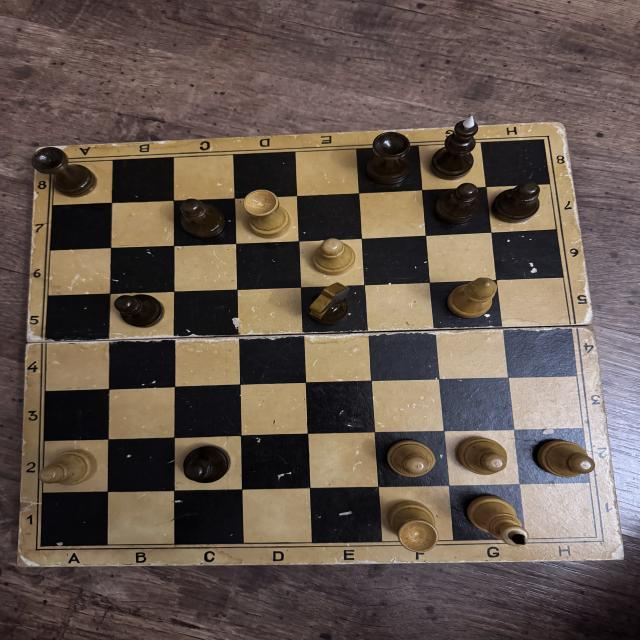black-king: (430, 114, 480, 181)
black-knight: (309, 282, 351, 325)
black-pawn: (492, 181, 541, 223), (179, 198, 228, 239), (181, 444, 230, 484), (112, 292, 166, 328), (437, 182, 482, 224)
black-rook: (32, 146, 96, 198), (364, 131, 414, 186)
white-bishop: (446, 277, 498, 319)
white-king: (464, 494, 530, 546)
white-pawn: (37, 450, 95, 489), (537, 441, 595, 478), (456, 436, 508, 476), (387, 439, 437, 480), (312, 238, 357, 276)
white-rook: (385, 497, 440, 554), (242, 188, 292, 239)
